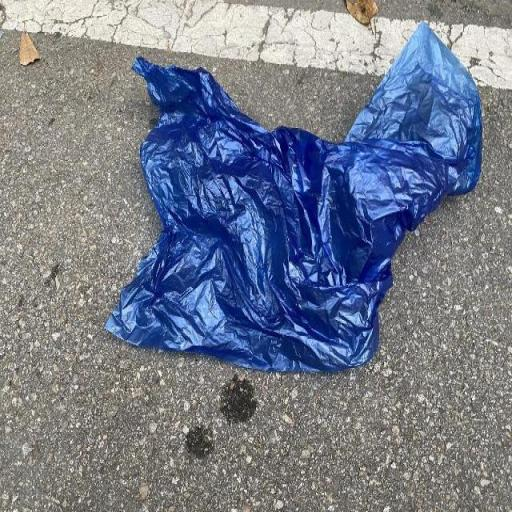plastic-bag: (104, 20, 486, 378)
